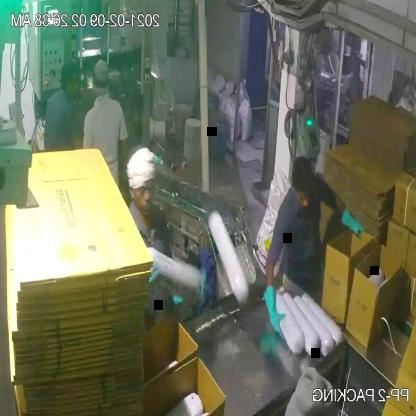glove: (260, 278, 288, 340), (337, 207, 366, 246)
